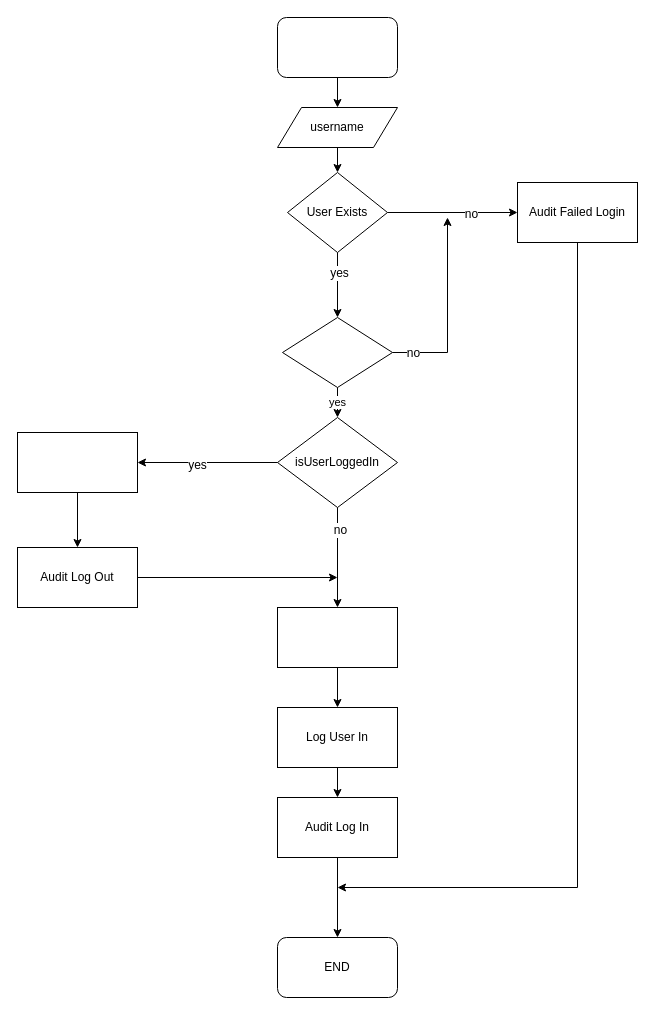
Image size: 655x1015. Some labels were removed from this diagram. Each missing label, with the centre of its shape:
"Get Session ID" belongs at (x=337, y=637).
"isUserActive" belongs at (x=337, y=352).
"Log User Out" belongs at (x=77, y=462).
"START" belongs at (x=337, y=47).
